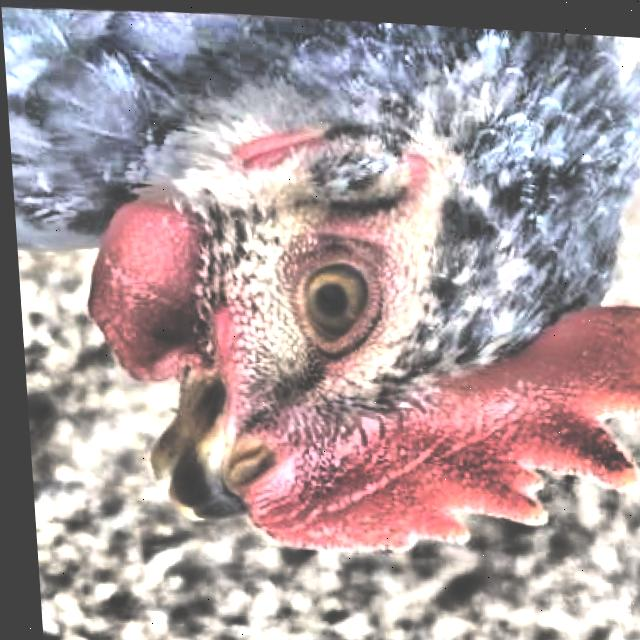Healthy: (268, 216, 390, 371)
